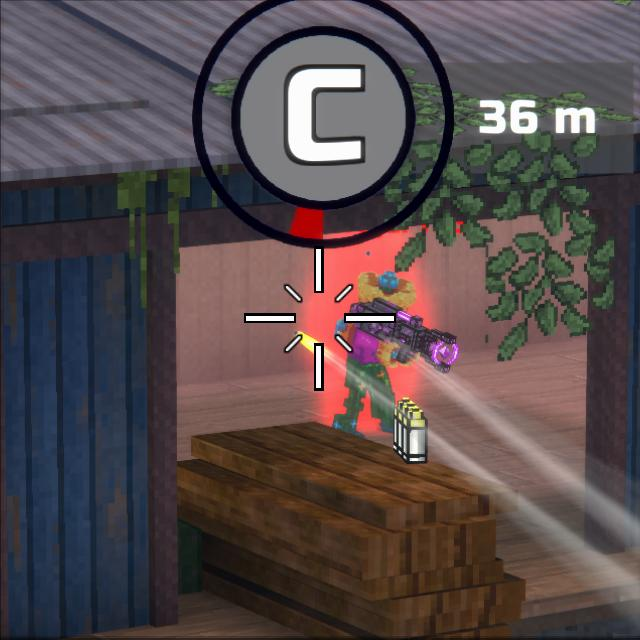Enemy: (327, 281, 428, 433)
